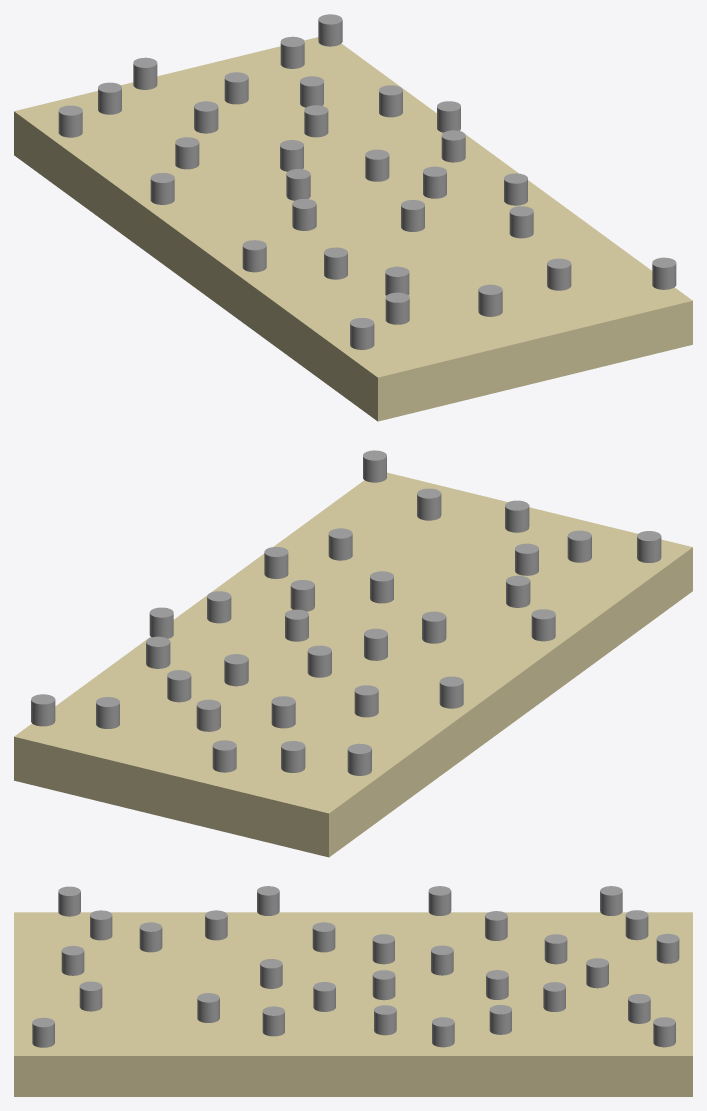
Rendered from assets002_Streckenteil_gerade001.fbx.
3 views of the same model, one above another, from view 1: azimuth 30°, elevation 25°; view 2: azimuth 150°, elevation 25°; view 3: azimuth 270°, elevation 25° (orthographic). The views are drawn at different scales.
Visible parts, largest first — view 1: streckenteil_gerade_geo, pickup27, pickup128, pickup23, pickup122, pickup130, pickup29, pickup120, pickup124, pickup1, pickup24, pickup26 (+19 smaller); view 2: streckenteil_gerade_geo, pickup24, pickup29, pickup123, pickup129, pickup130, pickup19, pickup25, pickup26, pickup126, pickup131, pickup1 (+19 smaller); view 3: streckenteil_gerade_geo, pickup1, pickup17, pickup25, pickup130, pickup31, pickup123, pickup26, pickup21, pickup129, pickup28, pickup120 (+19 smaller).
Boxes of the visible parts, x1,y1,x2,y2 form: streckenteil_gerade_geo: (14,37,692,421); pickup27: (224,72,248,104); pickup128: (318,14,342,46); pickup23: (441,130,465,162); pickup122: (58,105,82,137); pickup130: (194,101,218,133); pickup29: (175,137,199,169); pickup120: (385,292,409,324); pickup124: (304,105,328,137); pickup1: (547,258,571,290); pickup24: (509,206,533,238); pickup26: (478,284,502,316); streckenteil_gerade_geo: (14,472,692,857); pickup24: (328,528,352,560); pickup29: (354,685,378,717); pickup123: (212,740,236,772); pickup129: (439,676,463,708); pickup130: (271,696,295,728); pickup19: (307,645,331,677); pickup25: (422,611,446,643); pickup26: (505,500,529,532); pickup126: (146,636,170,668); pickup131: (531,609,555,641); pickup1: (417,488,441,520); streckenteil_gerade_geo: (14,912,692,1096); pickup1: (79,981,102,1011); pickup17: (139,922,162,952); pickup25: (312,922,335,952); pickup130: (544,934,567,964); pickup31: (372,970,395,1000); pickup123: (656,933,679,963); pickup26: (61,946,84,975); pickup21: (625,910,648,940); pickup129: (428,886,451,915); pickup28: (262,1006,284,1036); pickup120: (90,910,112,940).
Bounding box in the file's own units: 30 × 6.68 × 60.
